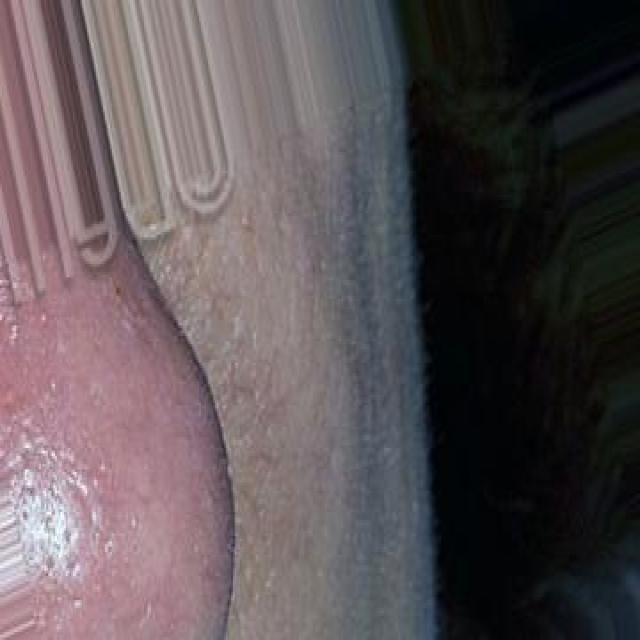Rosacea: (7, 300, 130, 587)
